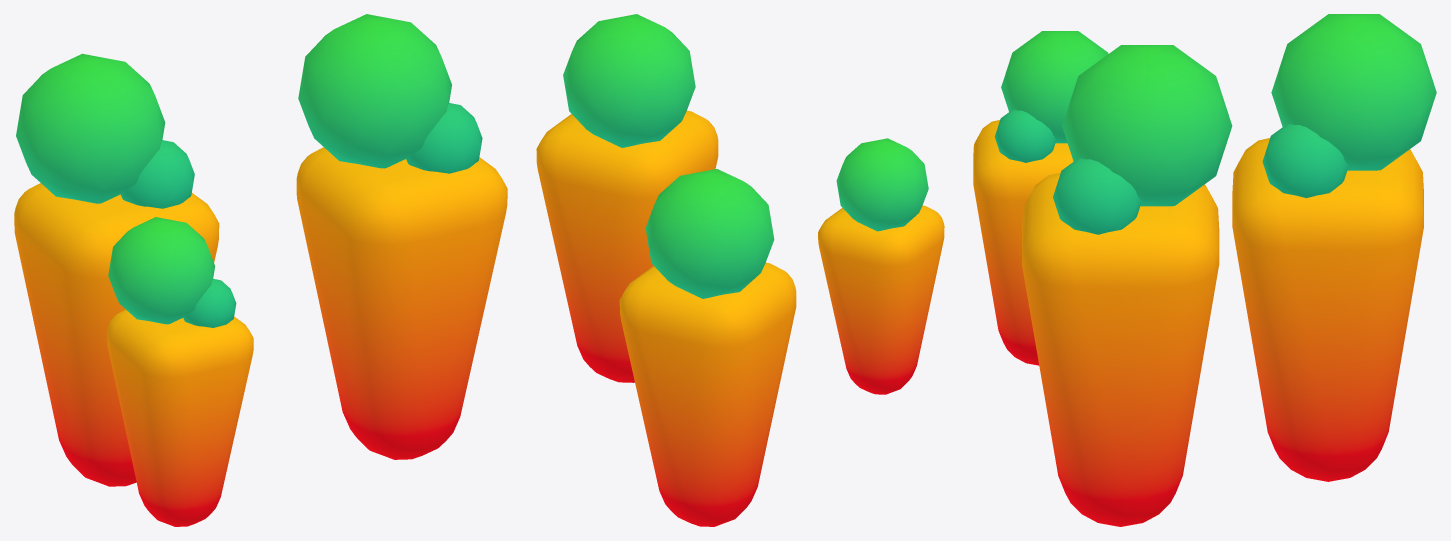
File: carrot.glb
The picture shows the model from 3 angles, left to right: view 1: azimuth 30°, elevation 25°; view 2: azimuth 150°, elevation 25°; view 3: azimuth 270°, elevation 25°; orthographic projection. The views are drawn at different scales.
Visible parts, largest first — view 1: Cube; view 2: Cube; view 3: Cube.
Boxes of the visible parts, x1,y1,x2,y2 form: Cube: (14, 14, 507, 526); Cube: (536, 14, 944, 526); Cube: (973, 14, 1436, 526).
Size of the model in its own units: 0.828 by 0.9693 by 0.7831.
Materials: 2 (2 with a texture image).
